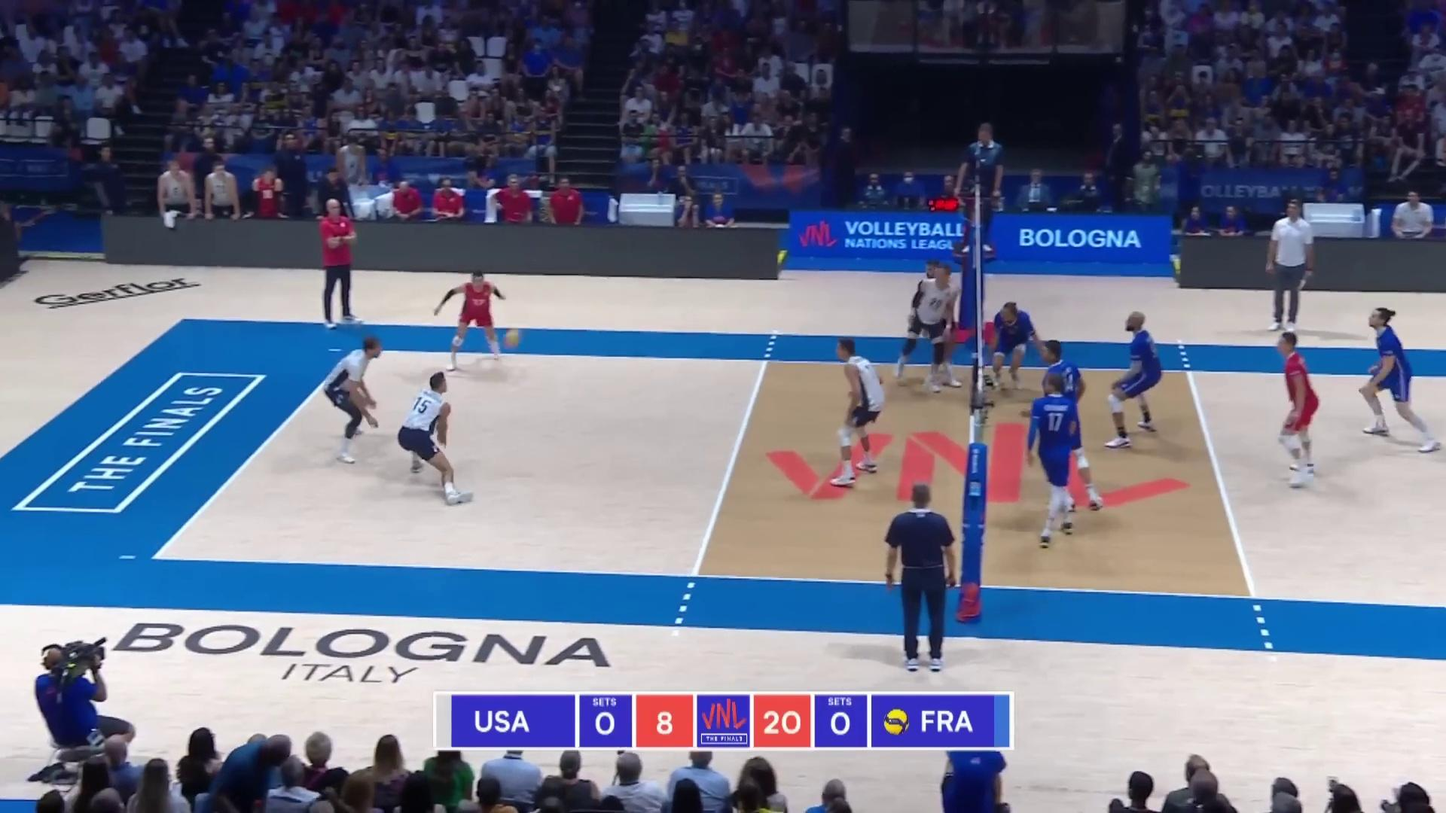player: (1355, 308, 1446, 455), (1040, 341, 1106, 510), (398, 372, 471, 504), (889, 265, 958, 395), (1269, 332, 1323, 489), (831, 338, 888, 486), (320, 337, 384, 464), (1032, 376, 1080, 544), (436, 271, 511, 372), (1107, 314, 1161, 446), (917, 263, 965, 390), (986, 303, 1042, 399)
refree: (887, 485, 961, 667), (956, 126, 1002, 253)
